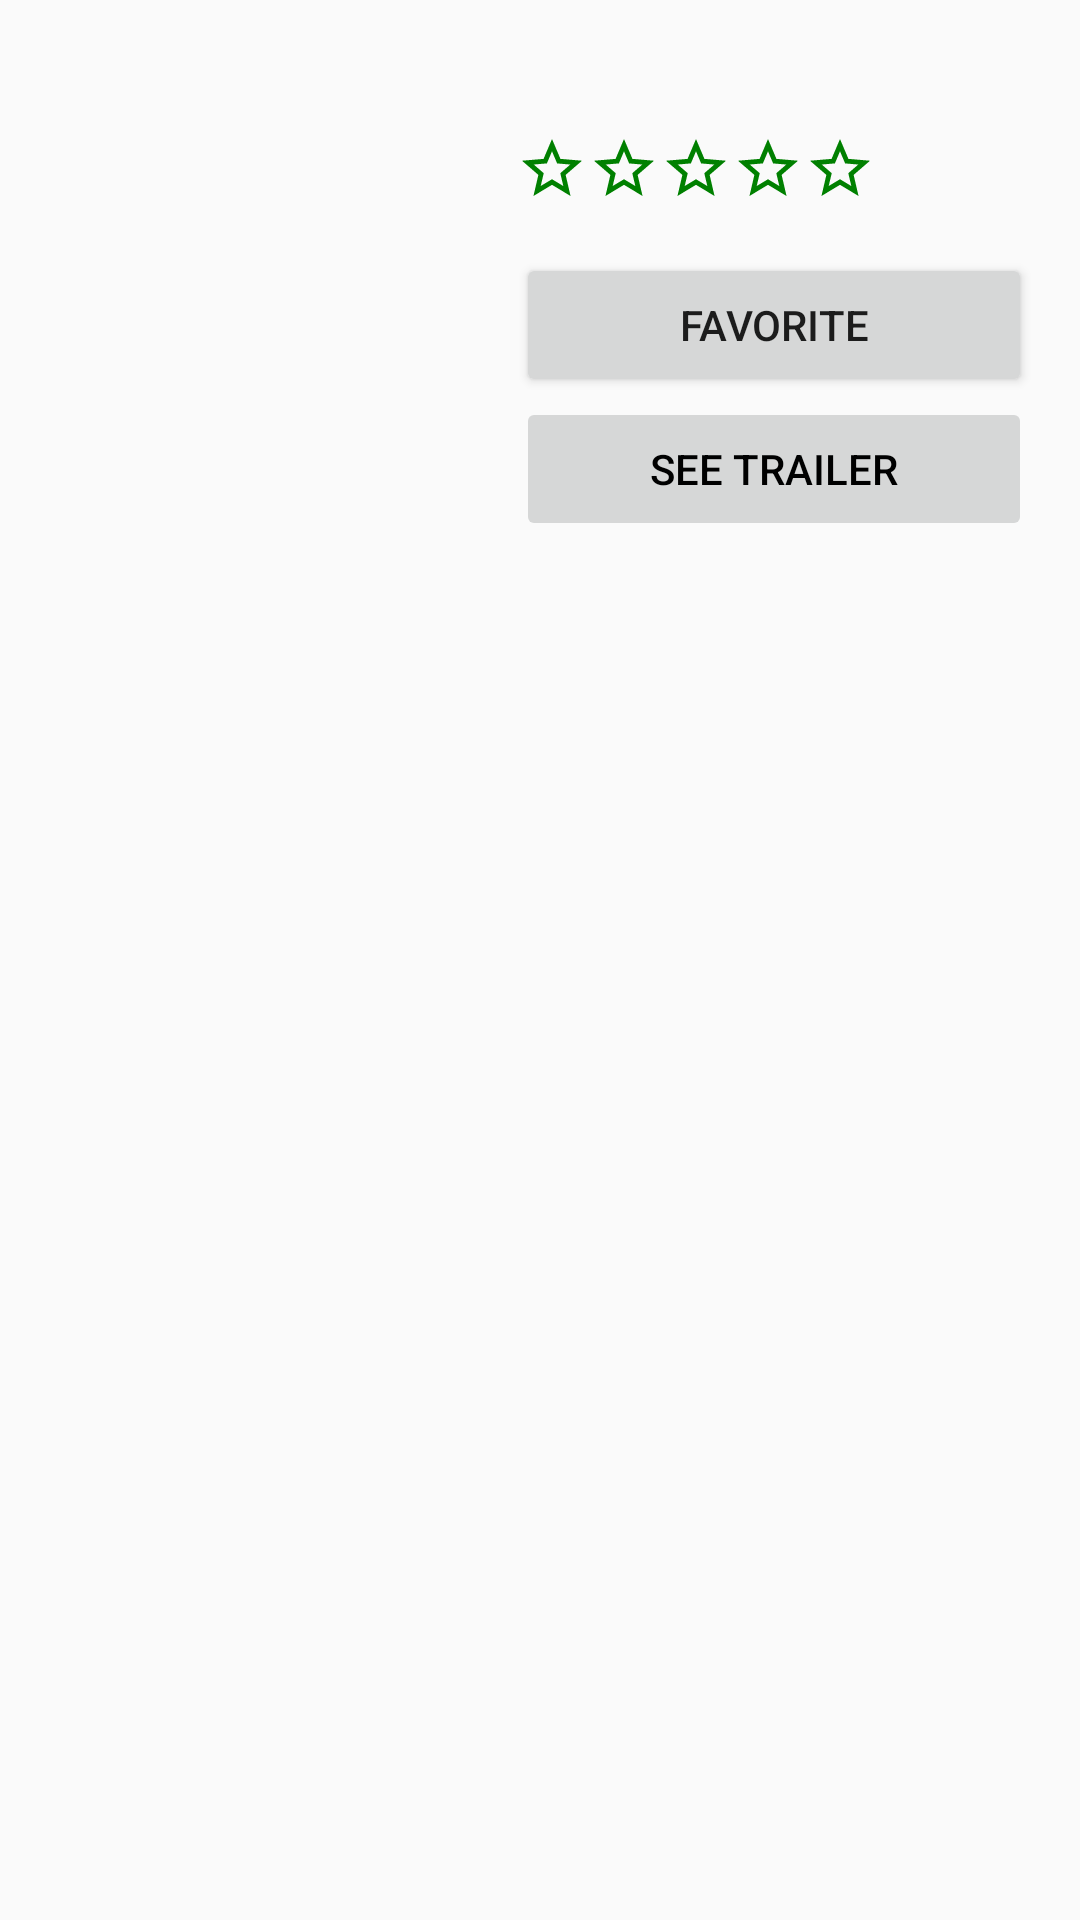

Icons on this 1080x1920 Android screen, each with the point to tap as point (x, y):
star border: point (552, 167), point (624, 167), point (696, 167), point (768, 167), point (840, 167)
